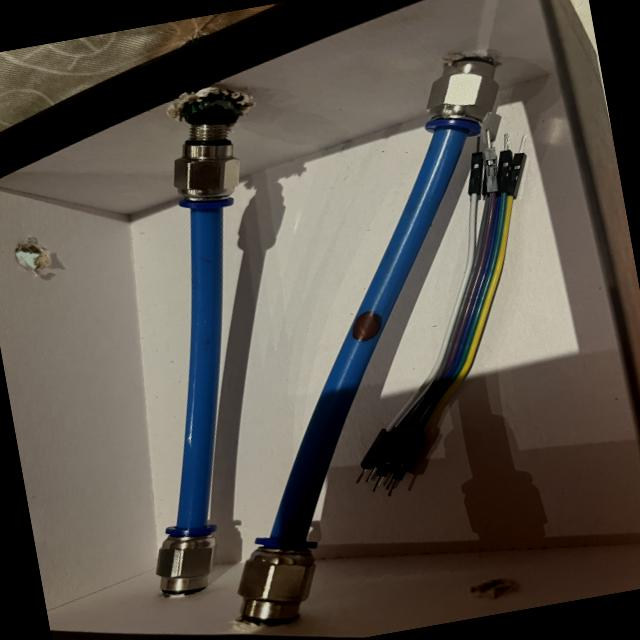hose_damage: (342, 305, 390, 346)
